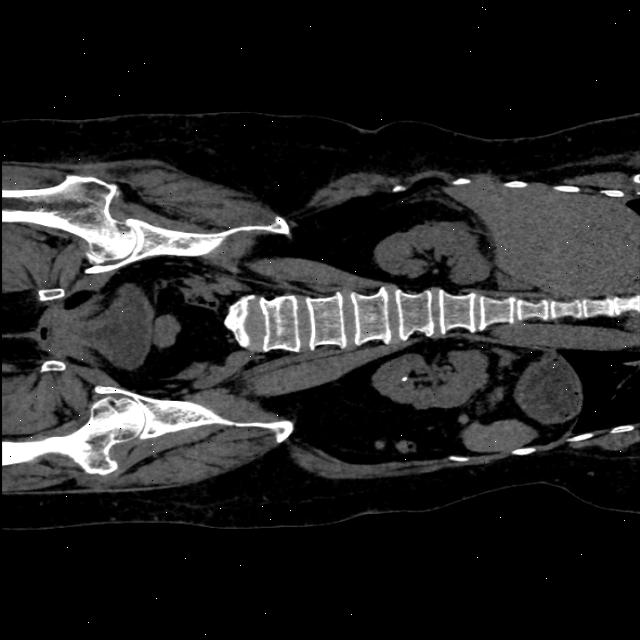kidneystone: (400, 376, 407, 382)
